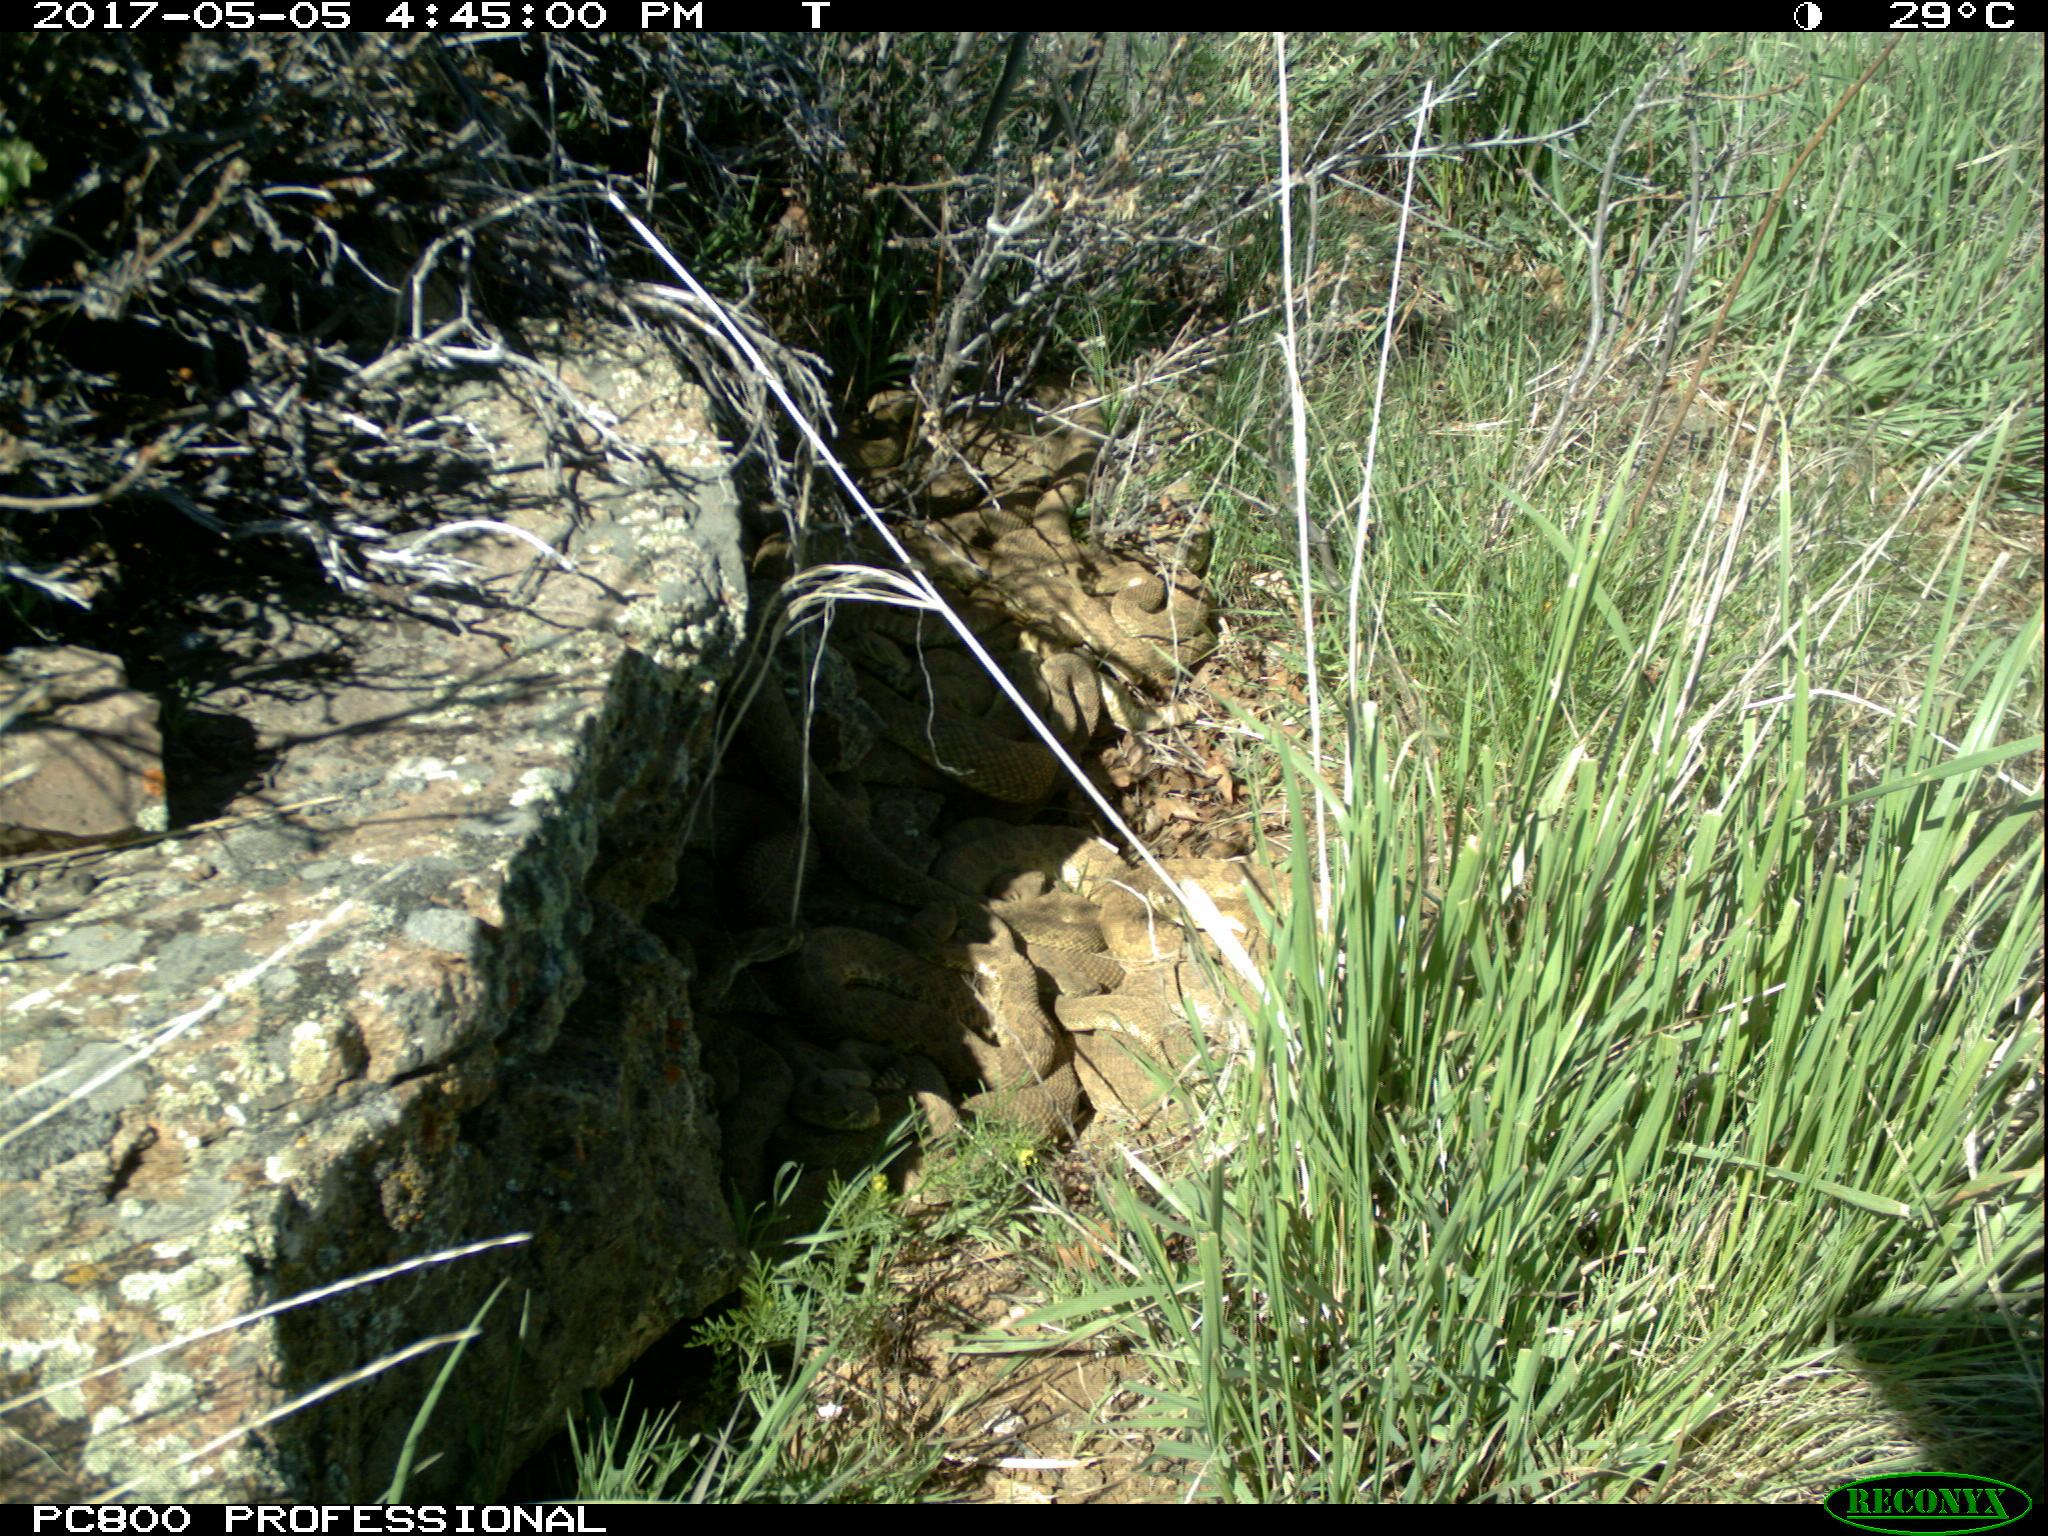snake: (898, 461, 1221, 658), (843, 637, 1229, 802), (798, 912, 1093, 1125), (1056, 897, 1258, 1120), (713, 1034, 976, 1187), (937, 828, 1280, 929), (856, 411, 1126, 508), (685, 921, 808, 1008)
